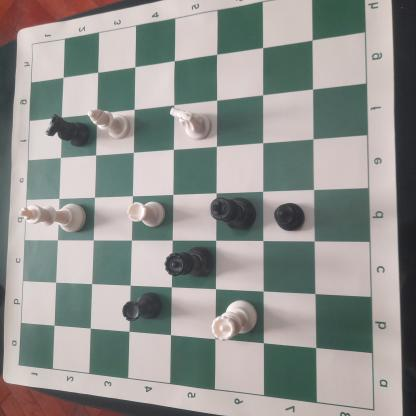black-bishop: (272, 199, 307, 235)
black-king: (209, 194, 260, 232)
black-knight: (43, 113, 91, 151)
black-queen: (164, 243, 214, 283)
black-rook: (118, 290, 166, 327)
white-bishop: (85, 107, 132, 142)
white-king: (18, 196, 88, 238)
white-knight: (170, 102, 214, 142)
white-queen: (209, 295, 263, 341)
white-rook: (125, 196, 167, 230)
